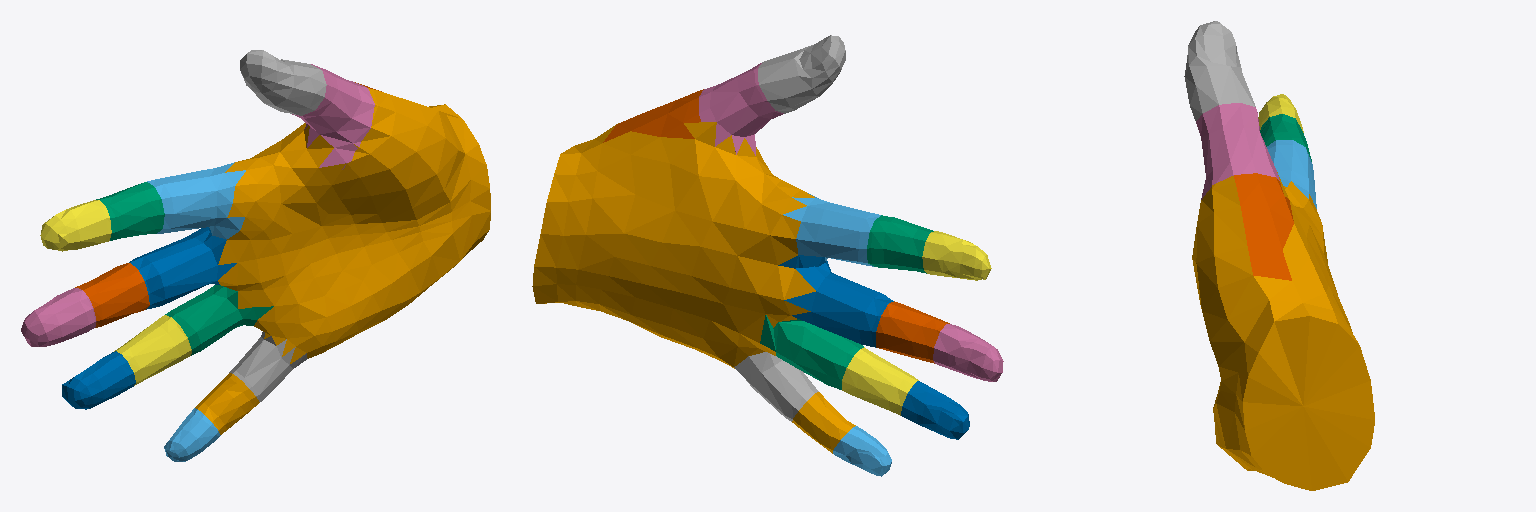
robot.urdf — mano_hand_planar:
<?xml version="1.0" ?>
<!-- generated by scratchpad/planar_urdf.py. visual=links_planar (concave, watertight), collision=links_hull (convex). MANO ships NO joint limits (its prior is the pose PCA); flex/abd ranges here are ANATOMICAL ESTIMATES. Axis signs are curl-verified. -->
<robot name="mano_hand_planar">
  <material name="skin">
    <color rgba="0.92 0.71 0.59 1"/>
  </material>
  <link name="link_00">
    <inertial>
      <origin xyz="-0.034264 -0.003129 0.003189" rpy="0 0 0"/>
      <mass value="2.542268266e-01"/>
      <inertia ixx="1.508169317e-04" iyy="3.054616287e-04" izz="2.139938428e-04" ixy="-6.711848657e-06" ixz="-2.969005142e-06" iyz="7.076997107e-06"/>
    </inertial>
    <visual>
      <origin xyz="0 0 0" rpy="0 0 0"/>
      <geometry>
        <mesh filename="links_planar/link_00_r_wrist.obj"/>
      </geometry>
    </visual>
    <collision>
      <origin xyz="0 0 0" rpy="0 0 0"/>
      <geometry>
        <mesh filename="links_hull/link_00_r_wrist.obj"/>
      </geometry>
    </collision>
  </link>
  <link name="link_01">
    <inertial>
      <origin xyz="-0.017066 0.003497 0.001297" rpy="0 0 0"/>
      <mass value="9.562015697e-03"/>
      <inertia ixx="5.031117934e-07" iyy="9.957607120e-07" izz="9.927907459e-07" ixy="4.050151499e-08" ixz="1.315475731e-08" iyz="-1.000865279e-08"/>
    </inertial>
    <visual>
      <origin xyz="0 0 0" rpy="0 0 0"/>
      <geometry>
        <mesh filename="links_planar/link_01_r_index1.obj"/>
      </geometry>
    </visual>
    <collision>
      <origin xyz="0 0 0" rpy="0 0 0"/>
      <geometry>
        <mesh filename="links_hull/link_01_r_index1.obj"/>
      </geometry>
    </collision>
  </link>
  <link name="link_02">
    <inertial>
      <origin xyz="-0.010290 -0.000431 -0.000120" rpy="0 0 0"/>
      <mass value="5.002715191e-03"/>
      <inertia ixx="1.839002078e-07" iyy="3.030115797e-07" izz="2.861108319e-07" ixy="-6.748125625e-09" ixz="6.343322850e-11" iyz="-5.251745160e-10"/>
    </inertial>
    <visual>
      <origin xyz="0 0 0" rpy="0 0 0"/>
      <geometry>
        <mesh filename="links_planar/link_02_r_index2.obj"/>
      </geometry>
    </visual>
    <collision>
      <origin xyz="0 0 0" rpy="0 0 0"/>
      <geometry>
        <mesh filename="links_hull/link_02_r_index2.obj"/>
      </geometry>
    </collision>
  </link>
  <link name="link_03">
    <inertial>
      <origin xyz="-0.010163 -0.000365 -0.000262" rpy="0 0 0"/>
      <mass value="3.418304583e-03"/>
      <inertia ixx="8.548834735e-08" iyy="1.896915776e-07" izz="1.762625267e-07" ixy="-3.535726387e-09" ixz="-4.130803807e-09" iyz="-3.181408576e-09"/>
    </inertial>
    <visual>
      <origin xyz="0 0 0" rpy="0 0 0"/>
      <geometry>
        <mesh filename="links_planar/link_03_r_index3.obj"/>
      </geometry>
    </visual>
    <collision>
      <origin xyz="0 0 0" rpy="0 0 0"/>
      <geometry>
        <mesh filename="links_hull/link_03_r_index3.obj"/>
      </geometry>
    </collision>
  </link>
  <link name="link_04">
    <inertial>
      <origin xyz="-0.014351 0.002502 -0.003384" rpy="0 0 0"/>
      <mass value="1.004031759e-02"/>
      <inertia ixx="5.098819883e-07" iyy="1.158393418e-06" izz="1.155734450e-06" ixy="6.972432651e-10" ixz="-1.125890380e-07" iyz="4.878814225e-09"/>
    </inertial>
    <visual>
      <origin xyz="0 0 0" rpy="0 0 0"/>
      <geometry>
        <mesh filename="links_planar/link_04_r_middle1.obj"/>
      </geometry>
    </visual>
    <collision>
      <origin xyz="0 0 0" rpy="0 0 0"/>
      <geometry>
        <mesh filename="links_hull/link_04_r_middle1.obj"/>
      </geometry>
    </collision>
  </link>
  <link name="link_05">
    <inertial>
      <origin xyz="-0.010907 -0.000010 -0.001970" rpy="0 0 0"/>
      <mass value="5.208158603e-03"/>
      <inertia ixx="1.903997390e-07" iyy="3.330431136e-07" izz="3.197403094e-07" ixy="-1.411069595e-08" ixz="-1.375302756e-08" iyz="-5.272884877e-09"/>
    </inertial>
    <visual>
      <origin xyz="0 0 0" rpy="0 0 0"/>
      <geometry>
        <mesh filename="links_planar/link_05_r_middle2.obj"/>
      </geometry>
    </visual>
    <collision>
      <origin xyz="0 0 0" rpy="0 0 0"/>
      <geometry>
        <mesh filename="links_hull/link_05_r_middle2.obj"/>
      </geometry>
    </collision>
  </link>
  <link name="link_06">
    <inertial>
      <origin xyz="-0.010884 -0.000005 -0.001619" rpy="0 0 0"/>
      <mass value="3.906340316e-03"/>
      <inertia ixx="1.090786265e-07" iyy="2.407905378e-07" izz="2.213446201e-07" ixy="1.738391707e-09" ixz="-2.592873528e-08" iyz="-2.807920131e-09"/>
    </inertial>
    <visual>
      <origin xyz="0 0 0" rpy="0 0 0"/>
      <geometry>
        <mesh filename="links_planar/link_06_r_middle3.obj"/>
      </geometry>
    </visual>
    <collision>
      <origin xyz="0 0 0" rpy="0 0 0"/>
      <geometry>
        <mesh filename="links_hull/link_06_r_middle3.obj"/>
      </geometry>
    </collision>
  </link>
  <link name="link_07">
    <inertial>
      <origin xyz="-0.006352 0.001669 -0.005956" rpy="0 0 0"/>
      <mass value="5.262300947e-03"/>
      <inertia ixx="2.467317455e-07" iyy="3.578529380e-07" izz="2.922427393e-07" ixy="-1.052122461e-08" ixz="-7.502635799e-08" iyz="-1.235757336e-08"/>
    </inertial>
    <visual>
      <origin xyz="0 0 0" rpy="0 0 0"/>
      <geometry>
        <mesh filename="links_planar/link_07_r_pinky1.obj"/>
      </geometry>
    </visual>
    <collision>
      <origin xyz="0 0 0" rpy="0 0 0"/>
      <geometry>
        <mesh filename="links_hull/link_07_r_pinky1.obj"/>
      </geometry>
    </collision>
  </link>
  <link name="link_08">
    <inertial>
      <origin xyz="-0.007056 0.001005 -0.005774" rpy="0 0 0"/>
      <mass value="3.015490515e-03"/>
      <inertia ixx="9.009520884e-08" iyy="1.303080106e-07" izz="1.142013789e-07" ixy="1.847359182e-09" ixz="-2.156327896e-08" iyz="-2.907622437e-09"/>
    </inertial>
    <visual>
      <origin xyz="0 0 0" rpy="0 0 0"/>
      <geometry>
        <mesh filename="links_planar/link_08_r_pinky2.obj"/>
      </geometry>
    </visual>
    <collision>
      <origin xyz="0 0 0" rpy="0 0 0"/>
      <geometry>
        <mesh filename="links_hull/link_08_r_pinky2.obj"/>
      </geometry>
    </collision>
  </link>
  <link name="link_09">
    <inertial>
      <origin xyz="-0.006995 -0.000481 -0.004196" rpy="0 0 0"/>
      <mass value="2.030460524e-03"/>
      <inertia ixx="4.417777759e-08" iyy="7.605632242e-08" izz="6.665632300e-08" ixy="-6.045533263e-09" ixz="-1.331866498e-08" iyz="-4.026598795e-09"/>
    </inertial>
    <visual>
      <origin xyz="0 0 0" rpy="0 0 0"/>
      <geometry>
        <mesh filename="links_planar/link_09_r_pinky3.obj"/>
      </geometry>
    </visual>
    <collision>
      <origin xyz="0 0 0" rpy="0 0 0"/>
      <geometry>
        <mesh filename="links_hull/link_09_r_pinky3.obj"/>
      </geometry>
    </collision>
  </link>
  <link name="link_10">
    <inertial>
      <origin xyz="-0.014411 0.002689 -0.001564" rpy="0 0 0"/>
      <mass value="7.685665670e-03"/>
      <inertia ixx="3.551466889e-07" iyy="6.699425600e-07" izz="6.646105320e-07" ixy="9.453991992e-09" ixz="-7.870192684e-08" iyz="5.983755510e-09"/>
    </inertial>
    <visual>
      <origin xyz="0 0 0" rpy="0 0 0"/>
      <geometry>
        <mesh filename="links_planar/link_10_r_ring1.obj"/>
      </geometry>
    </visual>
    <collision>
      <origin xyz="0 0 0" rpy="0 0 0"/>
      <geometry>
        <mesh filename="links_hull/link_10_r_ring1.obj"/>
      </geometry>
    </collision>
  </link>
  <link name="link_11">
    <inertial>
      <origin xyz="-0.010905 -0.000411 -0.004030" rpy="0 0 0"/>
      <mass value="4.969933950e-03"/>
      <inertia ixx="1.750380112e-07" iyy="3.330573443e-07" izz="3.154063960e-07" ixy="-1.148920775e-08" ixz="-4.501369275e-08" iyz="-6.203072865e-09"/>
    </inertial>
    <visual>
      <origin xyz="0 0 0" rpy="0 0 0"/>
      <geometry>
        <mesh filename="links_planar/link_11_r_ring2.obj"/>
      </geometry>
    </visual>
    <collision>
      <origin xyz="0 0 0" rpy="0 0 0"/>
      <geometry>
        <mesh filename="links_hull/link_11_r_ring2.obj"/>
      </geometry>
    </collision>
  </link>
  <link name="link_12">
    <inertial>
      <origin xyz="-0.010496 -0.000055 -0.003252" rpy="0 0 0"/>
      <mass value="3.318757031e-03"/>
      <inertia ixx="8.233267783e-08" iyy="1.919765609e-07" izz="1.755063202e-07" ixy="2.452270890e-10" ixz="-2.680736081e-08" iyz="-9.452798807e-10"/>
    </inertial>
    <visual>
      <origin xyz="0 0 0" rpy="0 0 0"/>
      <geometry>
        <mesh filename="links_planar/link_12_r_ring3.obj"/>
      </geometry>
    </visual>
    <collision>
      <origin xyz="0 0 0" rpy="0 0 0"/>
      <geometry>
        <mesh filename="links_hull/link_12_r_ring3.obj"/>
      </geometry>
    </collision>
  </link>
  <link name="link_13">
    <inertial>
      <!-- regenerated from links_hull/link_13_r_thumb1.obj at the original mass:
           the shipped tensor (from the non-watertight planar mesh) was not
           positive definite and Genesis refused to load it -->
      <origin xyz="-0.004676 -0.000155 0.008373" rpy="0 0 0"/>
      <mass value="1.291484609e-02"/>
      <inertia ixx="1.903005668e-06" iyy="3.002495649e-06" izz="2.388286426e-06" ixy="-1.039146993e-07" ixz="2.834851888e-07" iyz="-3.104318406e-07"/>
    </inertial>
    <visual>
      <origin xyz="0 0 0" rpy="0 0 0"/>
      <geometry>
        <mesh filename="links_planar/link_13_r_thumb1.obj"/>
      </geometry>
    </visual>
    <collision>
      <origin xyz="0 0 0" rpy="0 0 0"/>
      <geometry>
        <mesh filename="links_hull/link_13_r_thumb1.obj"/>
      </geometry>
    </collision>
  </link>
  <link name="link_14">
    <inertial>
      <origin xyz="-0.010323 -0.002018 0.006026" rpy="0 0 0"/>
      <mass value="1.006865984e-02"/>
      <inertia ixx="8.460539867e-07" iyy="1.004309501e-06" izz="7.521546271e-07" ixy="-2.819466729e-08" ixz="1.627930634e-07" iyz="1.567222760e-08"/>
    </inertial>
    <visual>
      <origin xyz="0 0 0" rpy="0 0 0"/>
      <geometry>
        <mesh filename="links_planar/link_14_r_thumb2.obj"/>
      </geometry>
    </visual>
    <collision>
      <origin xyz="0 0 0" rpy="0 0 0"/>
      <geometry>
        <mesh filename="links_hull/link_14_r_thumb2.obj"/>
      </geometry>
    </collision>
  </link>
  <link name="link_15">
    <inertial>
      <origin xyz="-0.010959 -0.002332 0.008215" rpy="0 0 0"/>
      <mass value="7.783984395e-03"/>
      <inertia ixx="4.906704332e-07" iyy="7.571785349e-07" izz="6.249454474e-07" ixy="-4.350988022e-08" ixz="2.100567074e-07" iyz="5.896609021e-08"/>
    </inertial>
    <visual>
      <origin xyz="0 0 0" rpy="0 0 0"/>
      <geometry>
        <mesh filename="links_planar/link_15_r_thumb3.obj"/>
      </geometry>
    </visual>
    <collision>
      <origin xyz="0 0 0" rpy="0 0 0"/>
      <geometry>
        <mesh filename="links_hull/link_15_r_thumb3.obj"/>
      </geometry>
    </collision>
  </link>
  <link name="link_01_flex">
    <inertial>
      <mass value="1e-6"/>
      <inertia ixx="1e-9" iyy="1e-9" izz="1e-9" ixy="0" ixz="0" iyz="0"/>
    </inertial>
  </link>
  <joint name="link_01_flex" type="revolute">
    <parent link="link_00"/>
    <child link="link_01_flex"/>
    <origin xyz="-0.088097 -0.005200 0.020686" rpy="0 0 0"/>
    <axis xyz="0.014559 0.572123 -0.820039"/>
    <limit lower="-0.3000" upper="1.6000" effort="20" velocity="10"/>
  </joint>
  <joint name="link_01_abd" type="revolute">
    <parent link="link_01_flex"/>
    <child link="link_01"/>
    <origin xyz="0.000000 0.000000 0.000000" rpy="0 0 0"/>
    <axis xyz="0.085907 0.816377 0.571094"/>
    <limit lower="-0.3500" upper="0.3500" effort="20" velocity="10"/>
  </joint>
  <joint name="link_02_flex" type="revolute">
    <parent link="link_01"/>
    <child link="link_02"/>
    <origin xyz="-0.032679 0.004009 0.002217" rpy="0 0 0"/>
    <axis xyz="-0.029489 0.575045 -0.817590"/>
    <limit lower="-0.1000" upper="1.7500" effort="20" velocity="10"/>
  </joint>
  <joint name="link_03_flex" type="revolute">
    <parent link="link_02"/>
    <child link="link_03"/>
    <origin xyz="-0.022156 -0.001298 -0.000114" rpy="0 0 0"/>
    <axis xyz="-0.029489 0.575045 -0.817590"/>
    <limit lower="-0.1000" upper="1.6000" effort="20" velocity="10"/>
  </joint>
  <link name="link_04_flex">
    <inertial>
      <mass value="1e-6"/>
      <inertia ixx="1e-9" iyy="1e-9" izz="1e-9" ixy="0" ixz="0" iyz="0"/>
    </inertial>
  </link>
  <joint name="link_04_flex" type="revolute">
    <parent link="link_00"/>
    <child link="link_04_flex"/>
    <origin xyz="-0.094660 -0.001479 -0.003358" rpy="0 0 0"/>
    <axis xyz="0.179107 0.551220 -0.814910"/>
    <limit lower="-0.3000" upper="1.6000" effort="20" velocity="10"/>
  </joint>
  <joint name="link_04_abd" type="revolute">
    <parent link="link_04_flex"/>
    <child link="link_04"/>
    <origin xyz="0.000000 0.000000 0.000000" rpy="0 0 0"/>
    <axis xyz="0.085907 0.816377 0.571094"/>
    <limit lower="-0.3500" upper="0.3500" effort="20" velocity="10"/>
  </joint>
  <joint name="link_05_flex" type="revolute">
    <parent link="link_04"/>
    <child link="link_05"/>
    <origin xyz="-0.031183 0.001861 -0.005595" rpy="0 0 0"/>
    <axis xyz="0.110469 0.561873 -0.819814"/>
    <limit lower="-0.1000" upper="1.7500" effort="20" velocity="10"/>
  </joint>
  <joint name="link_06_flex" type="revolute">
    <parent link="link_05"/>
    <child link="link_06"/>
    <origin xyz="-0.022905 -0.001252 -0.003945" rpy="0 0 0"/>
    <axis xyz="0.110469 0.561873 -0.819814"/>
    <limit lower="-0.1000" upper="1.6000" effort="20" velocity="10"/>
  </joint>
  <link name="link_07_flex">
    <inertial>
      <mass value="1e-6"/>
      <inertia ixx="1e-9" iyy="1e-9" izz="1e-9" ixy="0" ixz="0" iyz="0"/>
    </inertial>
  </link>
  <joint name="link_07_flex" type="revolute">
    <parent link="link_00"/>
    <child link="link_07_flex"/>
    <origin xyz="-0.068787 -0.009940 -0.043209" rpy="0 0 0"/>
    <axis xyz="0.530423 0.447747 -0.719843"/>
    <limit lower="-0.3000" upper="1.6000" effort="20" velocity="10"/>
  </joint>
  <joint name="link_07_abd" type="revolute">
    <parent link="link_07_flex"/>
    <child link="link_07"/>
    <origin xyz="0.000000 0.000000 0.000000" rpy="0 0 0"/>
    <axis xyz="0.085907 0.816377 0.571094"/>
    <limit lower="-0.3500" upper="0.3500" effort="20" velocity="10"/>
  </joint>
  <joint name="link_08_flex" type="revolute">
    <parent link="link_07"/>
    <child link="link_08"/>
    <origin xyz="-0.017014 0.000062 -0.012499" rpy="0 0 0"/>
    <axis xyz="0.465973 0.473732 -0.747293"/>
    <limit lower="-0.1000" upper="1.7500" effort="20" velocity="10"/>
  </joint>
  <joint name="link_09_flex" type="revolute">
    <parent link="link_08"/>
    <child link="link_09"/>
    <origin xyz="-0.015867 -0.000691 -0.010332" rpy="0 0 0"/>
    <axis xyz="0.465973 0.473732 -0.747293"/>
    <limit lower="-0.1000" upper="1.6000" effort="20" velocity="10"/>
  </joint>
  <link name="link_10_flex">
    <inertial>
      <mass value="1e-6"/>
      <inertia ixx="1e-9" iyy="1e-9" izz="1e-9" ixy="0" ixz="0" iyz="0"/>
    </inertial>
  </link>
  <joint name="link_10_flex" type="revolute">
    <parent link="link_00"/>
    <child link="link_10_flex"/>
    <origin xyz="-0.081736 -0.003957 -0.026673" rpy="0 0 0"/>
    <axis xyz="0.186738 0.549861 -0.814114"/>
    <limit lower="-0.3000" upper="1.6000" effort="20" velocity="10"/>
  </joint>
  <joint name="link_10_abd" type="revolute">
    <parent link="link_10_flex"/>
    <child link="link_10"/>
    <origin xyz="0.000000 0.000000 0.000000" rpy="0 0 0"/>
    <axis xyz="0.085907 0.816377 0.571094"/>
    <limit lower="-0.3500" upper="0.3500" effort="20" velocity="10"/>
  </joint>
  <joint name="link_11_flex" type="revolute">
    <parent link="link_10"/>
    <child link="link_11"/>
    <origin xyz="-0.028314 0.002067 -0.005099" rpy="0 0 0"/>
    <axis xyz="0.223786 0.542754 -0.809529"/>
    <limit lower="-0.1000" upper="1.7500" effort="20" velocity="10"/>
  </joint>
  <joint name="link_12_flex" type="revolute">
    <parent link="link_11"/>
    <child link="link_12"/>
    <origin xyz="-0.023521 -0.001688 -0.007634" rpy="0 0 0"/>
    <axis xyz="0.223786 0.542754 -0.809529"/>
    <limit lower="-0.1000" upper="1.6000" effort="20" velocity="10"/>
  </joint>
  <link name="link_13_flex">
    <inertial>
      <mass value="1e-6"/>
      <inertia ixx="1e-9" iyy="1e-9" izz="1e-9" ixy="0" ixz="0" iyz="0"/>
    </inertial>
  </link>
  <joint name="link_13_flex" type="revolute">
    <parent link="link_00"/>
    <child link="link_13_flex"/>
    <origin xyz="-0.024090 -0.015522 0.025813" rpy="0 0 0"/>
    <axis xyz="-0.670347 0.471422 -0.573059"/>
    <limit lower="-0.3000" upper="1.6000" effort="20" velocity="10"/>
  </joint>
  <joint name="link_13_abd" type="revolute">
    <parent link="link_13_flex"/>
    <child link="link_13"/>
    <origin xyz="0.000000 0.000000 0.000000" rpy="0 0 0"/>
    <axis xyz="0.085907 0.816377 0.571094"/>
    <limit lower="-0.3500" upper="0.3500" effort="20" velocity="10"/>
  </joint>
  <joint name="link_14_flex" type="revolute">
    <parent link="link_13"/>
    <child link="link_14"/>
    <origin xyz="-0.019633 0.000891 0.023700" rpy="0 0 0"/>
    <axis xyz="-0.553581 0.515697 -0.653915"/>
    <limit lower="-0.1000" upper="1.7500" effort="20" velocity="10"/>
  </joint>
  <joint name="link_15_flex" type="revolute">
    <parent link="link_14"/>
    <child link="link_15"/>
    <origin xyz="-0.022218 -0.005433 0.014524" rpy="0 0 0"/>
    <axis xyz="-0.553581 0.515697 -0.653915"/>
    <limit lower="-0.1000" upper="1.6000" effort="20" velocity="10"/>
  </joint>
</robot>

--- Render facts (derived) ---
Views: 3 orthographic renders of the robot side by side, from view 1: azimuth 30°, elevation 25°; view 2: azimuth 150°, elevation 25°; view 3: azimuth 270°, elevation 25°.
Robot: mano_hand_planar — 21 links, 20 joints (20 revolute); root link link_00; default pose: every joint at zero.
Links seen in each view (by area): view 1: link_00, link_01, link_04, link_14, link_15, link_10, link_06, link_11, link_05, link_03, link_02, link_12 (+3 smaller); view 2: link_00, link_04, link_15, link_01, link_10, link_14, link_07, link_11, link_05, link_02, link_06, link_03 (+4 smaller); view 3: link_00, link_14, link_13, link_15, link_01, link_02, link_03.
Boxes of the visible links, x1,y1,x2,y2 form: link_00: (218,88,490,363); link_01: (147,162,245,239); link_04: (129,227,236,309); link_14: (292,64,374,169); link_15: (240,50,326,115); link_10: (165,285,273,355); link_06: (21,288,96,346); link_11: (114,315,191,385); link_05: (75,263,149,327); link_03: (40,200,111,251); link_02: (96,182,164,240); link_12: (62,351,135,409); link_00: (532,122,815,368); link_04: (778,255,893,347); link_15: (758,35,845,113); link_01: (783,193,880,266); link_10: (760,315,863,389); link_14: (699,63,783,155); link_07: (734,352,818,421); link_11: (842,347,918,415); link_05: (876,301,949,363); link_02: (867,215,933,273); link_06: (933,324,1003,381); link_03: (922,231,991,280); link_00: (1192,172,1374,490); link_14: (1196,103,1279,199); link_13: (1234,173,1293,280); link_15: (1184,21,1255,120); link_01: (1267,140,1316,208); link_02: (1260,114,1311,161); link_03: (1258,94,1303,132).
Size in the robot's own frame: 0.193 by 0.0613 by 0.1677 metres.
16 mesh visuals loaded from 16 distinct referenced files (16 OBJ).
